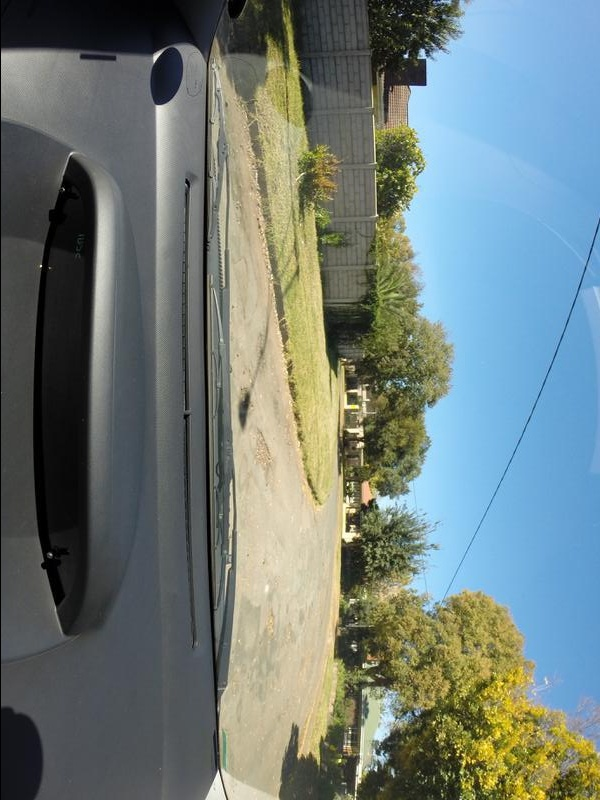pothole: (248, 422, 286, 478), (250, 332, 269, 387), (260, 605, 280, 646)
